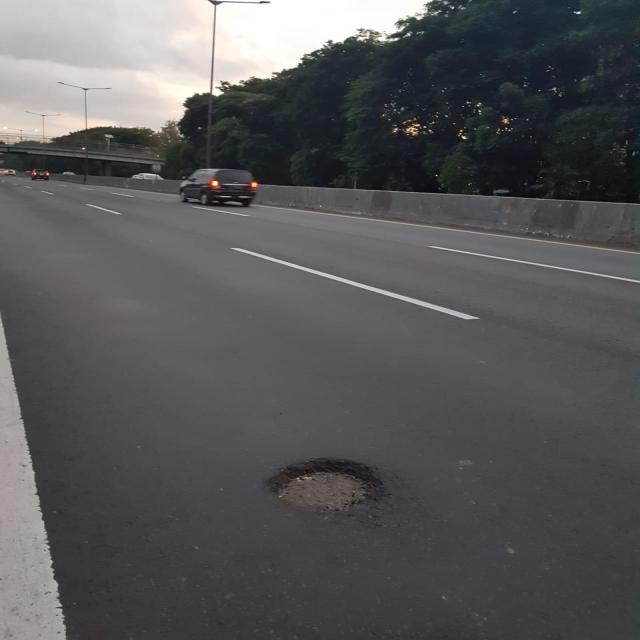Buraco: (260, 455, 389, 518)
